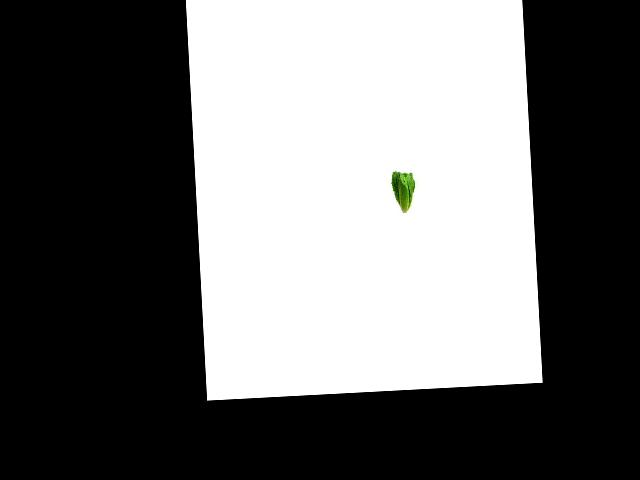lettuce: (387, 168, 420, 215)
